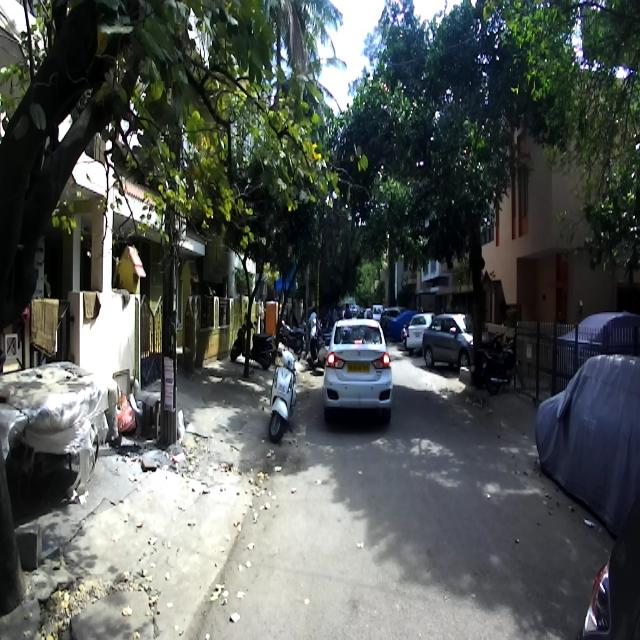car: (534, 340, 638, 524), (579, 488, 639, 639), (550, 311, 640, 395), (322, 316, 392, 424), (422, 313, 491, 369)
motorcycle: (480, 322, 524, 394)
scooter: (268, 345, 300, 442), (230, 302, 274, 370)
